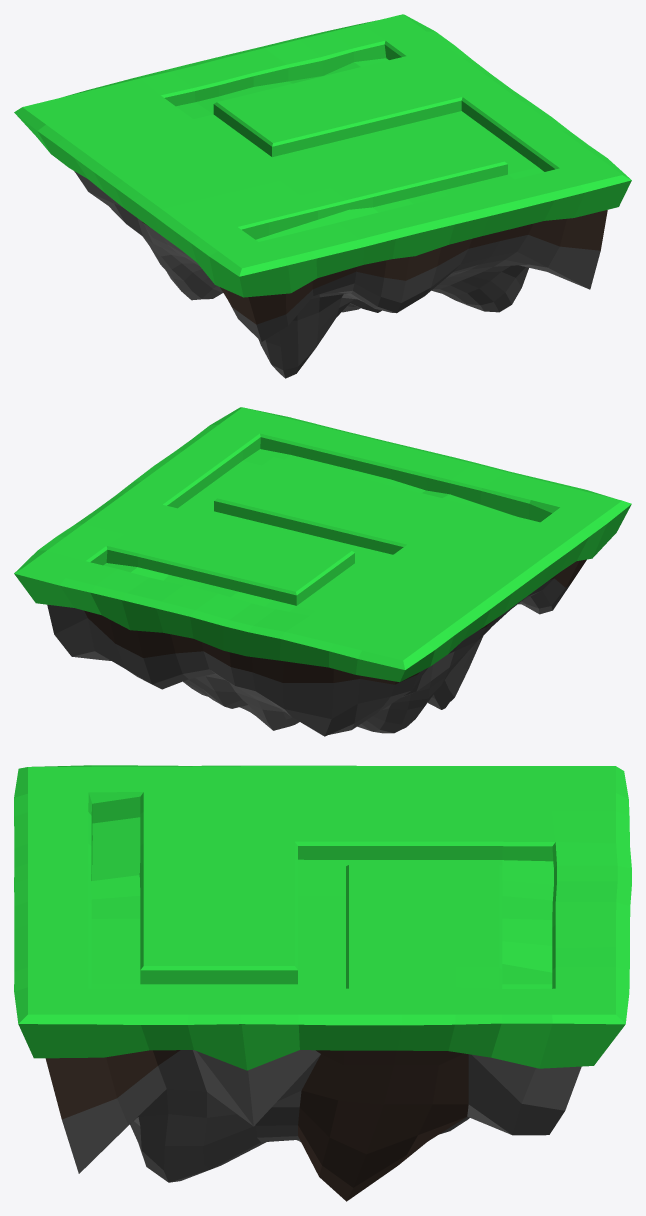
File: lowPolyIsland.fbx
The picture shows the model from 3 angles, top to bottom: view 1: azimuth 30°, elevation 25°; view 2: azimuth 150°, elevation 25°; view 3: azimuth 270°, elevation 25°; orthographic projection. The views are drawn at different scales.
Parts seen in each view (by area): view 1: Island; view 2: Island; view 3: Island.
Boxes of the visible parts, x1,y1,x2,y2 form: Island: [14, 14, 631, 378]; Island: [14, 407, 631, 736]; Island: [14, 765, 631, 1201].
Bounding box in the file's own units: 20960 × 9375 × 21019.
